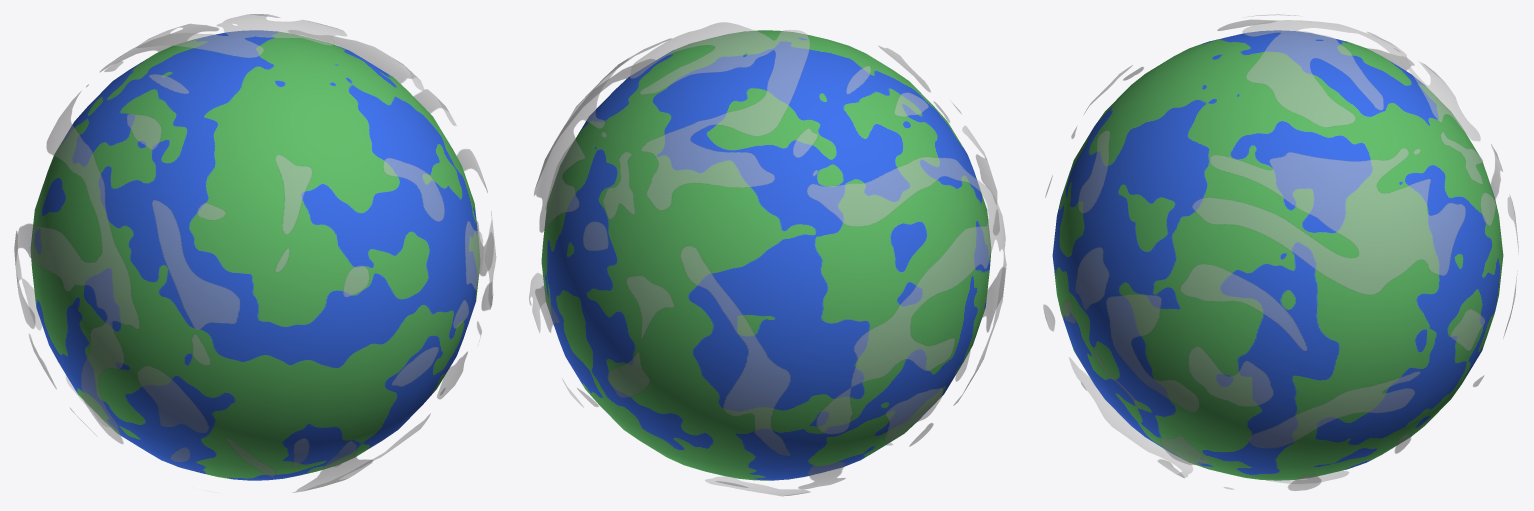
The model's file is TestPlanet.gltf.
3 views of the same model, side by side, from view 1: azimuth 30°, elevation 25°; view 2: azimuth 150°, elevation 25°; view 3: azimuth 270°, elevation 25° (orthographic).
Parts seen in each view (by area): view 1: Land, Clouds; view 2: Land, Clouds; view 3: Land, Clouds.
Part boxes in pixels (x1,y1,x2,y2): Land: (30, 30, 480, 480); Clouds: (14, 14, 496, 492); Land: (541, 30, 991, 480); Clouds: (529, 22, 1006, 496); Land: (1052, 30, 1503, 480); Clouds: (1043, 14, 1518, 490).
Size of the model in its own units: 2.15 by 2.15 by 2.15.
Materials: 2 (2 with a texture image).
